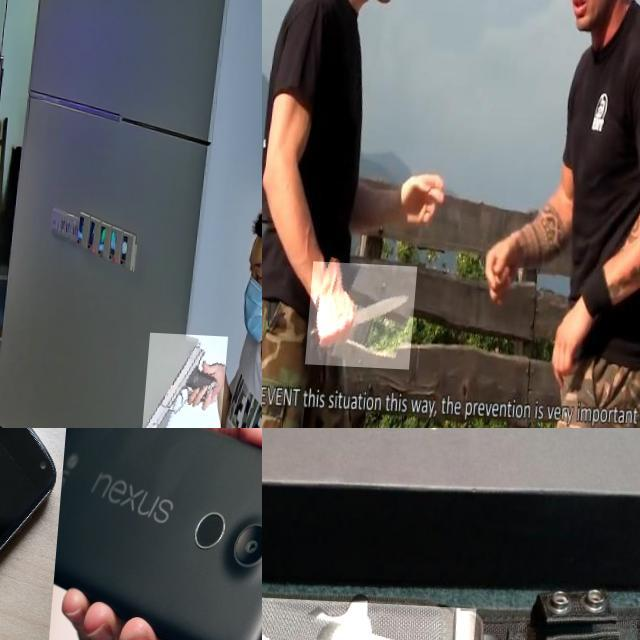-: (314, 259, 424, 366)
gun-knife-thesis - v11 Yolov5 augmented: (148, 330, 234, 428)
